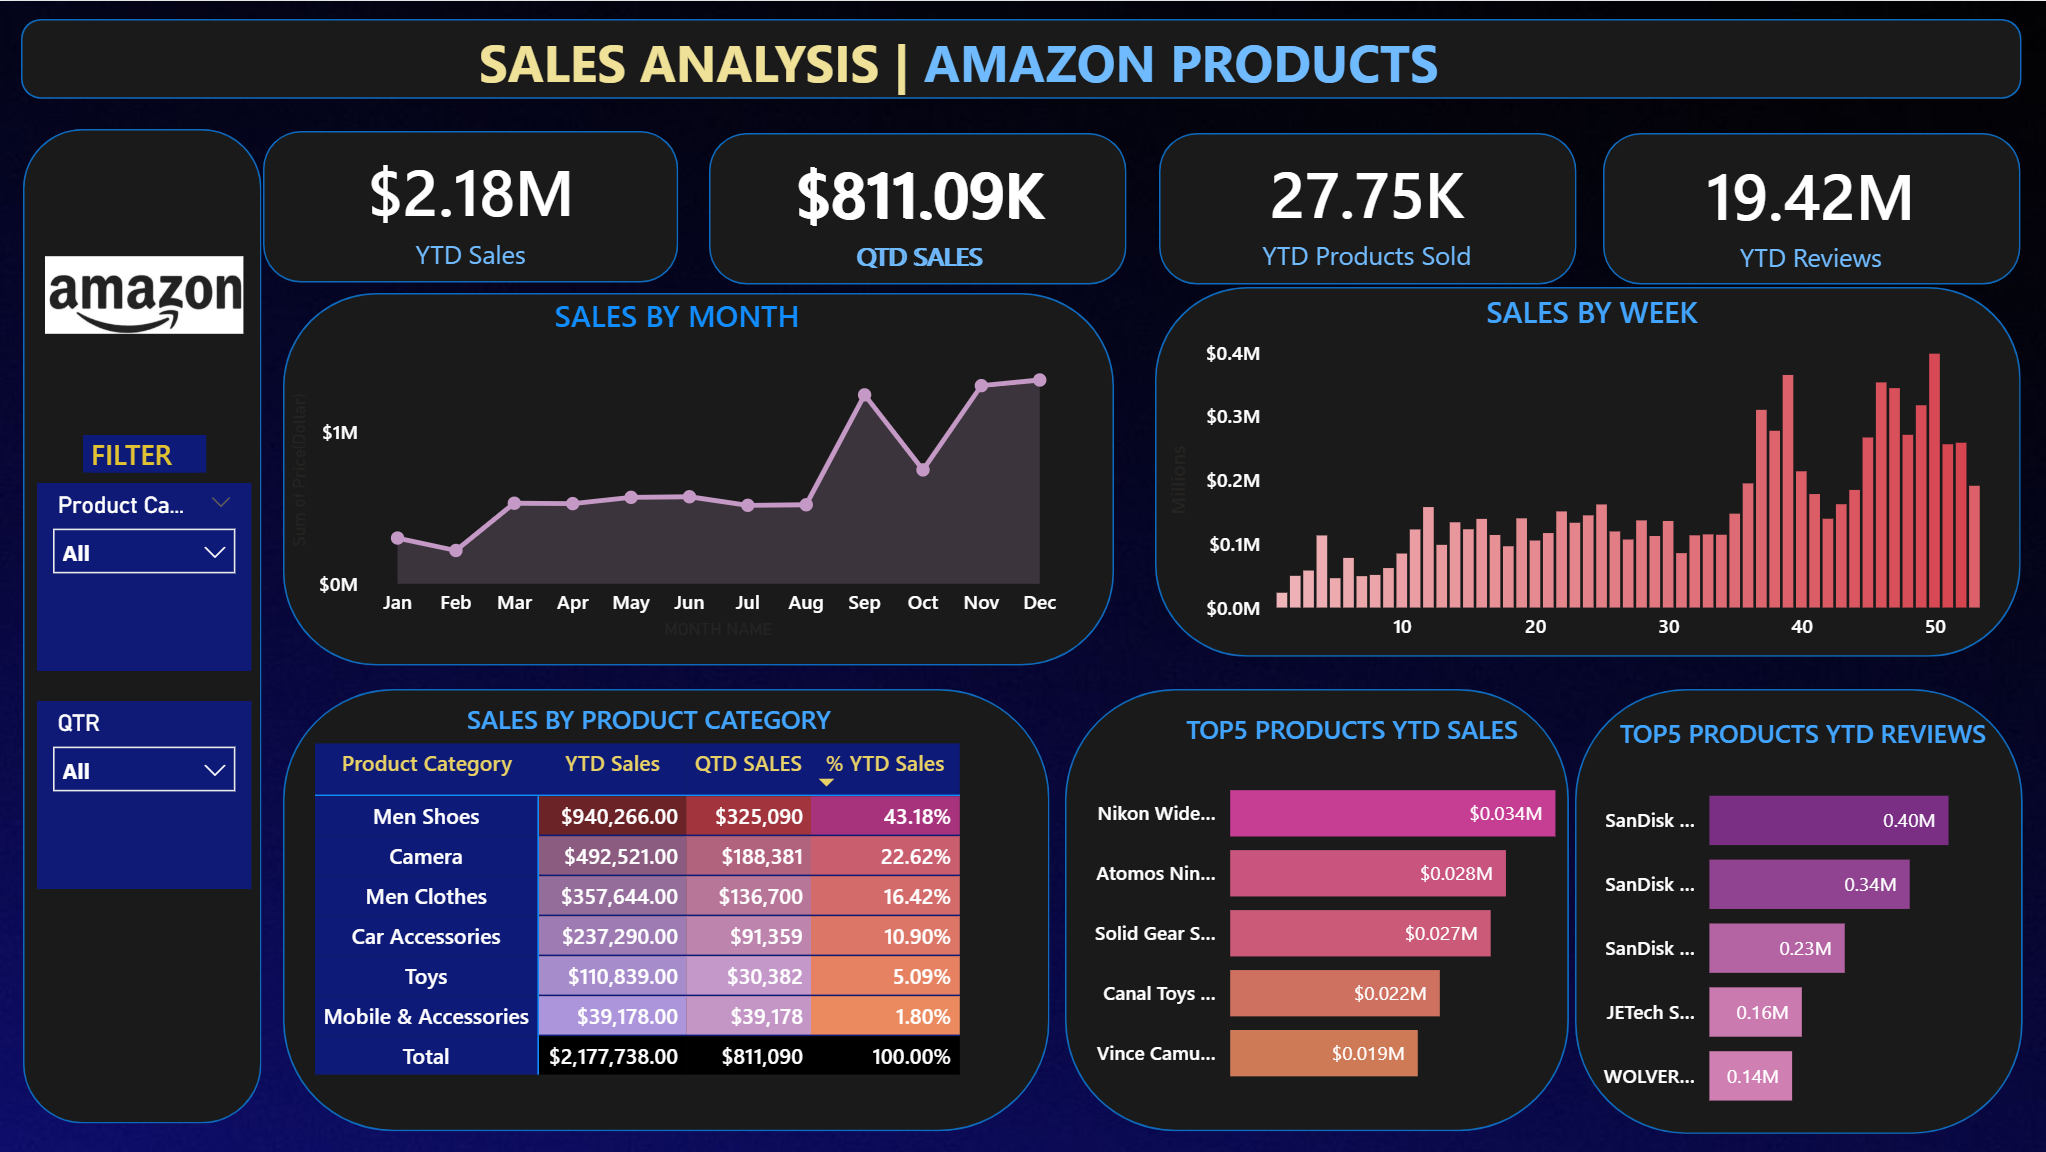

What the dashboard file says about the page in this screenshot:
{"tool":"powerbi","page":{"name":"Page 1","canvas":[1280,720],"ordinal":0},"visuals":[{"type":"shape","box":[177.6,430.6,479.2,276.4],"z":0},{"type":"shape","box":[14.2,10.7,1250.3,49.9],"z":1000},{"type":"shape","box":[177.6,182.6,519.4,232.9],"z":2000},{"type":"textbox","box":[295.3,11,690.8,59.1],"z":3000},{"type":"shape","box":[15.1,80.4,149.1,621.6],"z":4000},{"type":"shape","box":[164.8,81,259.6,94.8],"z":5000},{"type":"card","fields":{"Values":["Amazon_Data.YTD Sales"]},"box":[164.8,81,259.6,96.1],"z":6000},{"type":"shape","box":[443.6,82.4,260.9,94.8],"z":7000},{"type":"shape","box":[725.2,82.4,260.9,94.8],"z":8000},{"type":"shape","box":[1002.6,82.4,260.9,94.8],"z":9000},{"type":"card","fields":{"Values":["Amazon_Data.QTD SALES"]},"box":[445.7,82.1,259.7,97.2],"z":10000},{"type":"card","fields":{"Values":["Amazon_Data.QTD SALES"]},"box":[445,82.4,259.6,96.1],"z":11000},{"type":"card","fields":{"Values":["Amazon_Data.YTD Product Sold"]},"box":[725.4,82.1,259.7,95.5],"z":12000},{"type":"card","fields":{"Values":["Amazon_Data.YTD Reviews"]},"box":[1001.9,83.8,259.7,95.5],"z":13000},{"type":"shape","box":[722.1,179.3,541.2,231.2],"z":14000},{"type":"columnChart","title":"SALES BY WEEK","fields":{"Category":["Calender Table.Week"],"Y":["Sum(Amazon_Data.Price(Dollar))"]},"box":[727.1,180.9,536.1,227.9],"z":15000},{"type":"pivotTable","title":"SALES BY PRODUCT CATEGORY","fields":{"Rows":["Amazon_Data.Product Category"],"Values":["Amazon_Data.YTD Sales","Amazon_Data.QTD SALES","Divide(Amazon_Data.YTD Sales, ScopedEval(Amazon_Data.YTD Sales, []))"]},"box":[192.7,437.3,427.2,259.7],"z":16000},{"type":"shape","box":[666.8,430.6,315,276.4],"z":17000},{"type":"shape","box":[985.1,430.6,279.8,278.1],"z":18000},{"type":"clusteredBarChart","title":"TOP5 PRODUCTS YTD SALES","fields":{"Category":["Amazon_Data.Product Description"],"Y":["Amazon_Data.YTD Sales"]},"box":[667.3,444.1,356.2,249.4],"z":19000},{"type":"clusteredBarChart","title":"TOP5 PRODUCTS YTD REVIEWS","fields":{"Category":["Amazon_Data.Product Description"],"Y":["Amazon_Data.YTD Reviews"]},"box":[985.1,445.7,284.8,263],"z":20000},{"type":"slicer","fields":{"Values":["Amazon_Data.Product Category"]},"box":[23.5,301.6,134,117.3],"z":21000},{"type":"areaChart","title":"SALES BY MONTH","fields":{"Category":["Calender Table.MONTH NAME"],"Y":["Sum(Amazon_Data.Price(Dollar))"]},"box":[177.6,184.3,492.6,219.5],"z":22000},{"type":"slicer","fields":{"Values":["Calender Table.QTR"]},"box":[23.5,437.3,134,117.3],"z":23000},{"type":"image","box":[23.5,122.3,134,122.3],"z":24000},{"type":"textbox","title":"FILTER","box":[51.9,271.4,77.1,23.5],"z":24001}]}

Visuals, with their boxes in screenshot pixels (x1, y1, x2, y2), scaled from the page's 1280x720 canvas onto the 2046x1152 screenshot:
shape: [284, 689, 1050, 1131]
shape: [23, 17, 2021, 97]
shape: [284, 292, 1114, 665]
textbox: [472, 18, 1576, 112]
shape: [24, 129, 262, 1123]
shape: [263, 130, 678, 281]
card - Amazon_Data.YTD Sales: [263, 130, 678, 283]
shape: [709, 132, 1126, 284]
shape: [1159, 132, 1576, 284]
shape: [1603, 132, 2020, 284]
card - Amazon_Data.QTD SALES: [712, 131, 1128, 287]
card - Amazon_Data.QTD SALES: [711, 132, 1126, 286]
card - Amazon_Data.YTD Product Sold: [1160, 131, 1575, 284]
card - Amazon_Data.YTD Reviews: [1601, 134, 2017, 287]
shape: [1154, 287, 2019, 657]
"SALES BY WEEK" columnChart: [1162, 289, 2019, 654]
"SALES BY PRODUCT CATEGORY" pivotTable: [308, 700, 991, 1115]
shape: [1066, 689, 1569, 1131]
shape: [1575, 689, 2022, 1134]
"TOP5 PRODUCTS YTD SALES" clusteredBarChart: [1067, 711, 1636, 1110]
"TOP5 PRODUCTS YTD REVIEWS" clusteredBarChart: [1575, 713, 2030, 1134]
slicer - Amazon_Data.Product Category: [38, 483, 252, 670]
"SALES BY MONTH" areaChart: [284, 295, 1071, 646]
slicer - Calender Table.QTR: [38, 700, 252, 887]
image: [38, 196, 252, 391]
"FILTER" textbox: [83, 434, 206, 472]
